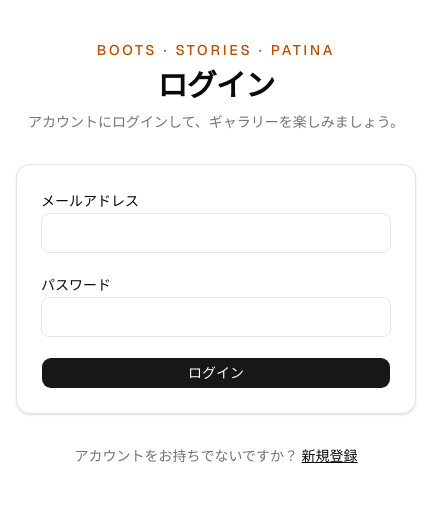
Test: LoginPage › shows validation errors when required fields are empty
The width and height of the screenshot is (433, 508).
Click the button "ログイン" at (216, 373), box [41, 357, 391, 389]
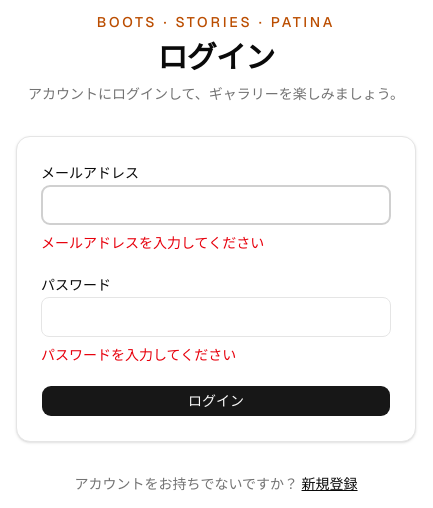
Now the text "メールアドレスを入力してください" is shown, box [41, 234, 264, 252]
Now the text "パスワードを入力してください" is shown, box [41, 346, 236, 364]
